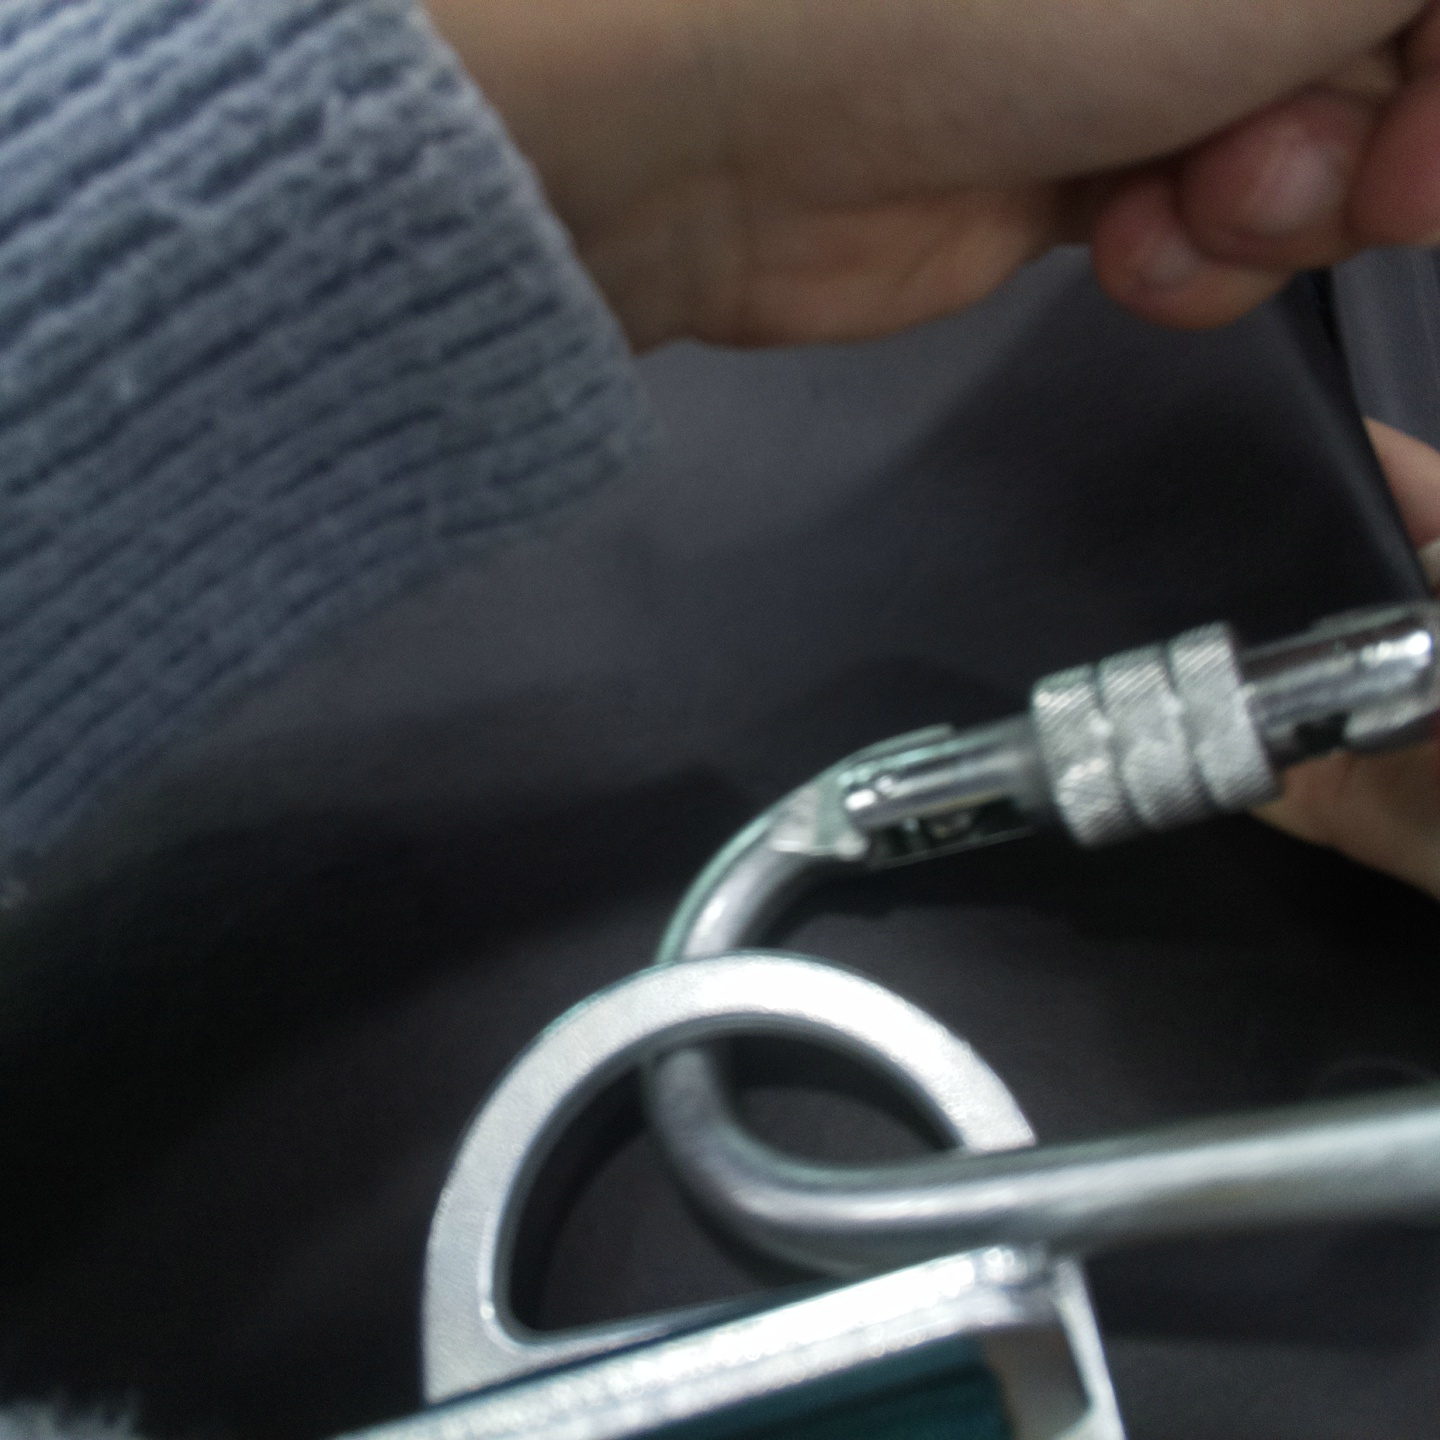SUCCESS: (406, 615, 1241, 1362)
